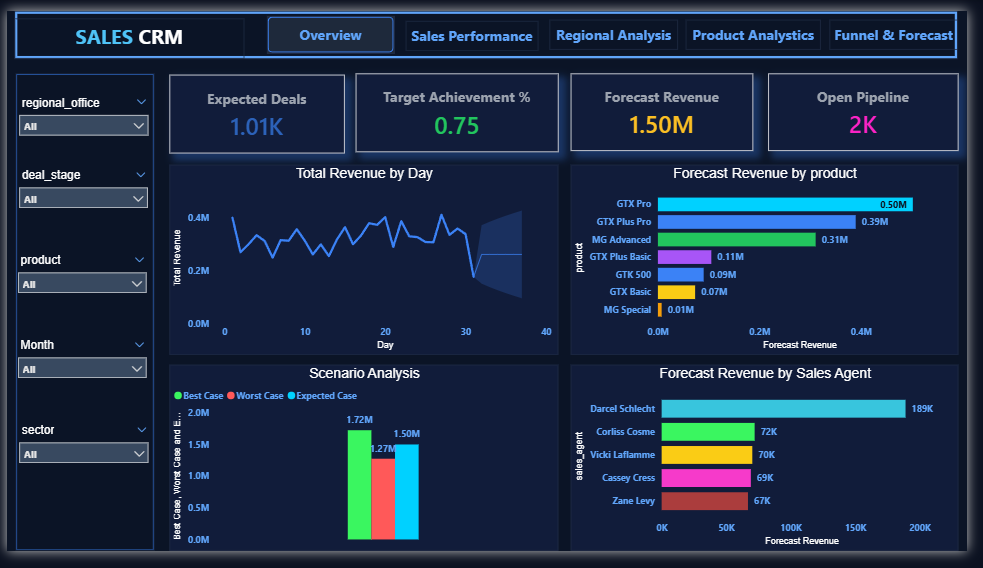

What the dashboard file says about the page in this screenshot:
{"tool":"powerbi","page":{"name":"Funnel & Forecast","canvas":[1280,720],"ordinal":4},"visuals":[{"type":"actionButton","box":[10.4,0,1257.9,64.2],"z":0},{"type":"textbox","box":[10,10,306.7,53.3],"z":1000},{"type":"cardVisual","fields":{"Data":["public sales_pipeline.Expected Deals"]},"box":[216.7,85,233.3,105],"z":2000},{"type":"cardVisual","fields":{"Data":["public sales_pipeline.Target Achievement %"]},"box":[465,83.3,270,105],"z":3000},{"type":"cardVisual","fields":{"Data":["public sales_pipeline.Forecast Revenue"]},"box":[751.7,83.3,243.3,103.3],"z":4000},{"type":"shape","box":[11.7,83.3,185,636.7],"z":5000},{"type":"slicer","fields":{"Values":["public sales_teams.regional_office"]},"box":[10.9,108.9,186.6,80.9],"z":6000},{"type":"slicer","fields":{"Values":["public sales_pipeline.deal_stage"]},"box":[11.4,205.7,185.7,81.4],"z":7000},{"type":"slicer","fields":{"Values":["public products.product"]},"box":[10,318.6,185.7,81.4],"z":8000},{"type":"lineChart","fields":{"Y":["public sales_pipeline.Total Revenue"],"Category":["public sales_pipeline.engage_date.Variation.Date Hierarchy.Year","public sales_pipeline.engage_date.Variation.Date Hierarchy.Quarter","public sales_pipeline.engage_date.Variation.Date Hierarchy.Month","public sales_pipeline.engage_date.Variation.Date Hierarchy.Day"]},"box":[216.7,205,518.3,253.3],"z":9000},{"type":"slicer","fields":{"Values":["public sales_pipeline.engage_date.Variation.Date Hierarchy.Month"]},"box":[10,431.4,185.7,81.4],"z":10000},{"type":"slicer","fields":{"Values":["public accounts.sector"]},"box":[11.4,545.7,187.1,80],"z":11000},{"type":"actionButton","title":"Product Analysis","box":[347.1,7.1,170,50],"z":12000},{"type":"actionButton","title":"Product Analysis","box":[722.9,11.4,171.4,40],"z":13000},{"type":"actionButton","title":"Product Analysis","box":[904.3,11.4,180,40],"z":14000},{"type":"actionButton","title":"Product Analysis","box":[531.4,12.9,177.1,40],"z":15000},{"type":"actionButton","title":"Product Analysis","box":[1097.1,11.4,171.4,40],"z":16000},{"type":"cardVisual","fields":{"Data":["public sales_pipeline.Open Pipeline"]},"box":[1015,83.3,253.3,103.3],"z":17000},{"type":"clusteredBarChart","fields":{"Category":["public products.product"],"Y":["public sales_pipeline.Forecast Revenue"]},"box":[751.7,205,516.7,253.3],"z":18000},{"type":"clusteredColumnChart","title":"Scenario Analysis","fields":{"Y":["public sales_pipeline.Best Case","public sales_pipeline.Worst Case","public sales_pipeline.Expected Case"]},"box":[216.7,471.7,518.3,248.3],"z":19000},{"type":"clusteredBarChart","title":"Forecast Revenue by Sales Agent","fields":{"Category":["public sales_pipeline.sales_agent"],"Y":["public sales_pipeline.Forecast Revenue"]},"box":[752,472,517,248],"z":20000}]}

Visuals, with their boxes in screenshot pixels (x1, y1, x2, y2), scaled from the page's 1280x720 canvas onto the 983x568 screenshot:
actionButton: pyautogui.locateOnScreen(8, 0, 974, 51)
textbox: pyautogui.locateOnScreen(8, 8, 243, 50)
cardVisual - public sales_pipeline.Expected Deals: pyautogui.locateOnScreen(166, 67, 346, 150)
cardVisual - public sales_pipeline.Target Achievement %: pyautogui.locateOnScreen(357, 66, 564, 149)
cardVisual - public sales_pipeline.Forecast Revenue: pyautogui.locateOnScreen(577, 66, 764, 147)
shape: pyautogui.locateOnScreen(9, 66, 151, 567)
slicer - public sales_teams.regional_office: pyautogui.locateOnScreen(8, 86, 152, 150)
slicer - public sales_pipeline.deal_stage: pyautogui.locateOnScreen(9, 162, 151, 226)
slicer - public products.product: pyautogui.locateOnScreen(8, 251, 150, 316)
lineChart - public sales_pipeline.Total Revenue x public sales_pipeline.engage_date.Variation.Date Hierarchy.Year: pyautogui.locateOnScreen(166, 162, 564, 362)
slicer - public sales_pipeline.engage_date.Variation.Date Hierarchy.Month: pyautogui.locateOnScreen(8, 340, 150, 405)
slicer - public accounts.sector: pyautogui.locateOnScreen(9, 430, 152, 494)
"Product Analysis" actionButton: pyautogui.locateOnScreen(267, 6, 397, 45)
"Product Analysis" actionButton: pyautogui.locateOnScreen(555, 9, 687, 41)
"Product Analysis" actionButton: pyautogui.locateOnScreen(694, 9, 833, 41)
"Product Analysis" actionButton: pyautogui.locateOnScreen(408, 10, 544, 42)
"Product Analysis" actionButton: pyautogui.locateOnScreen(843, 9, 974, 41)
cardVisual - public sales_pipeline.Open Pipeline: pyautogui.locateOnScreen(779, 66, 974, 147)
clusteredBarChart - public products.product x public sales_pipeline.Forecast Revenue: pyautogui.locateOnScreen(577, 162, 974, 362)
"Scenario Analysis" clusteredColumnChart: pyautogui.locateOnScreen(166, 372, 564, 567)
"Forecast Revenue by Sales Agent" clusteredBarChart: pyautogui.locateOnScreen(578, 372, 975, 567)
